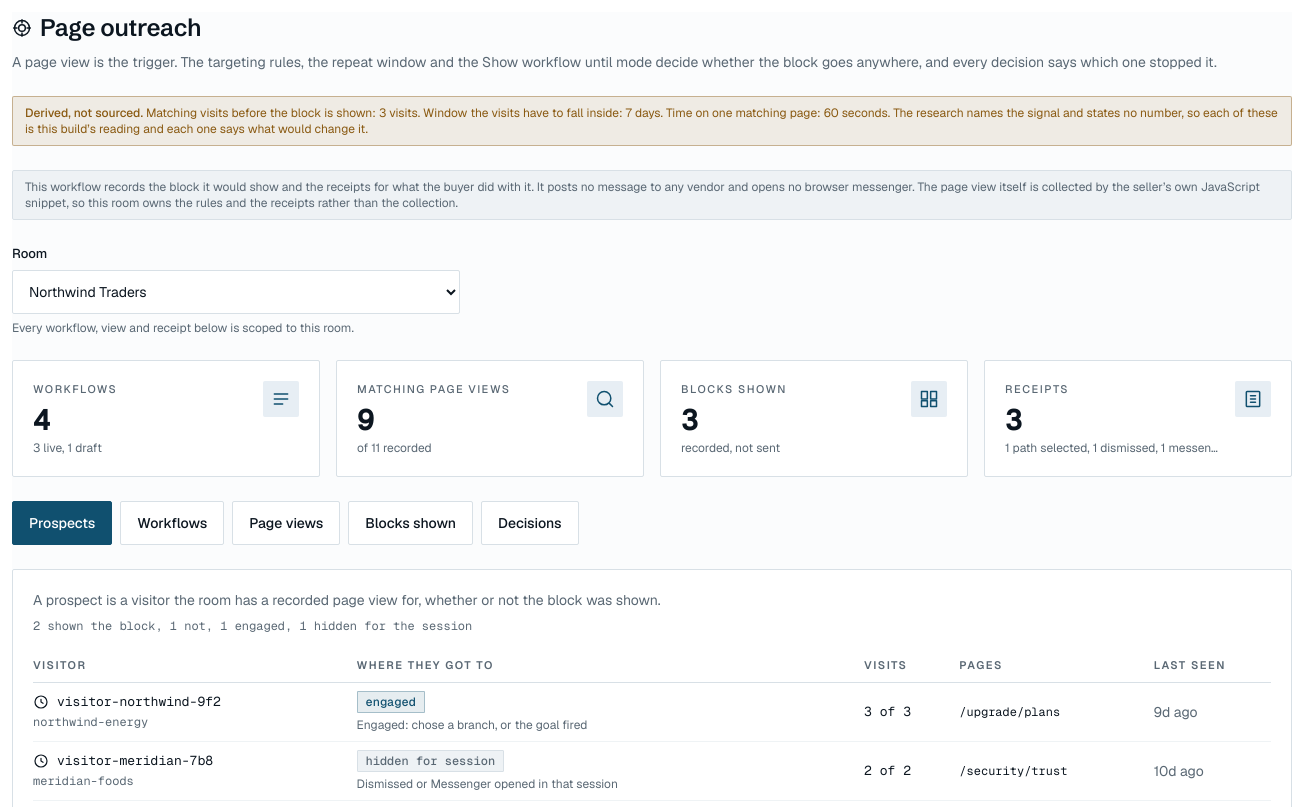
the workflows tab › names the frequency mode on every workflow rather than showing a colour
Expected: the heading "Page outreach" is shown, [40, 12, 201, 44]
Step 1. Click the button "Workflows" → click(172, 523), box [120, 501, 224, 545]
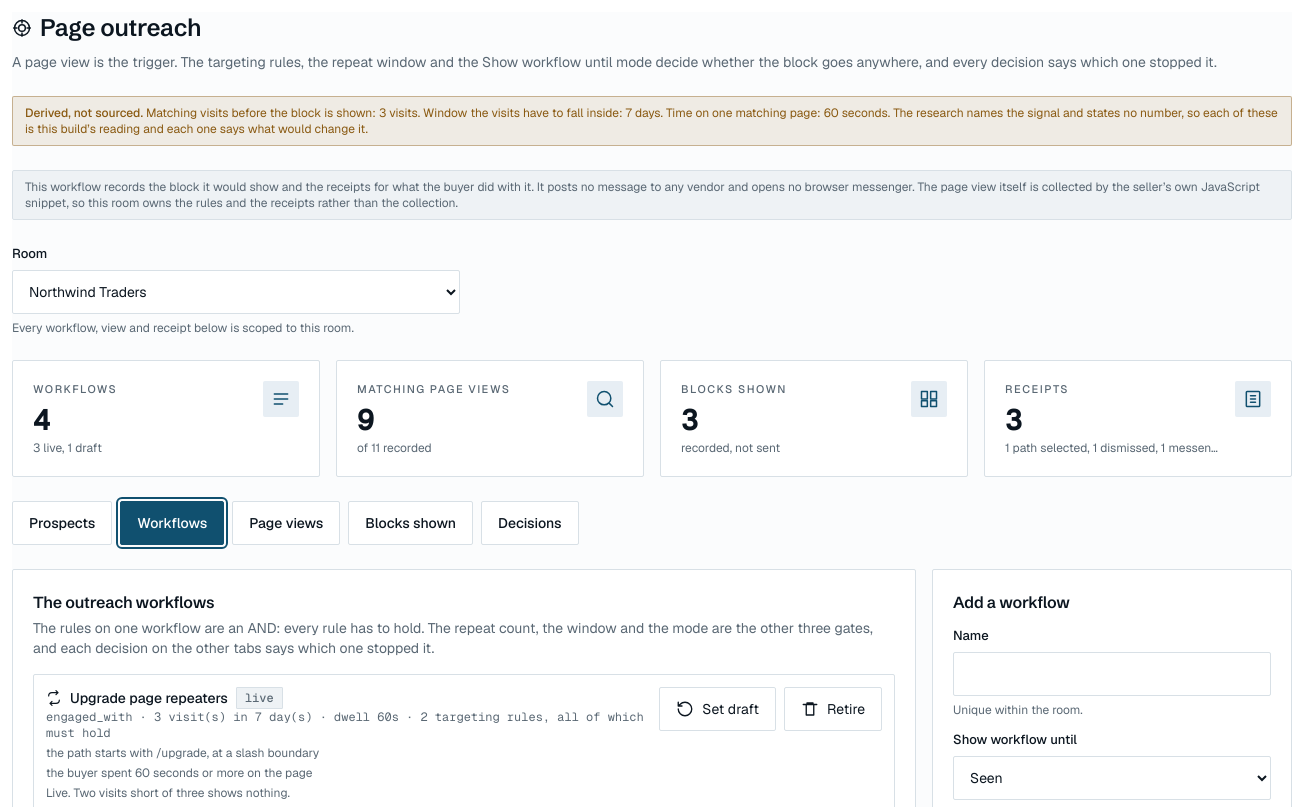
Now the heading "The outreach workflows" is shown, box [33, 592, 214, 612]
Now the text "engaged_with" is shown, box [46, 709, 132, 725]
Now the text "3 visit(s) in 7 day(s)" is shown, box [46, 709, 647, 741]
